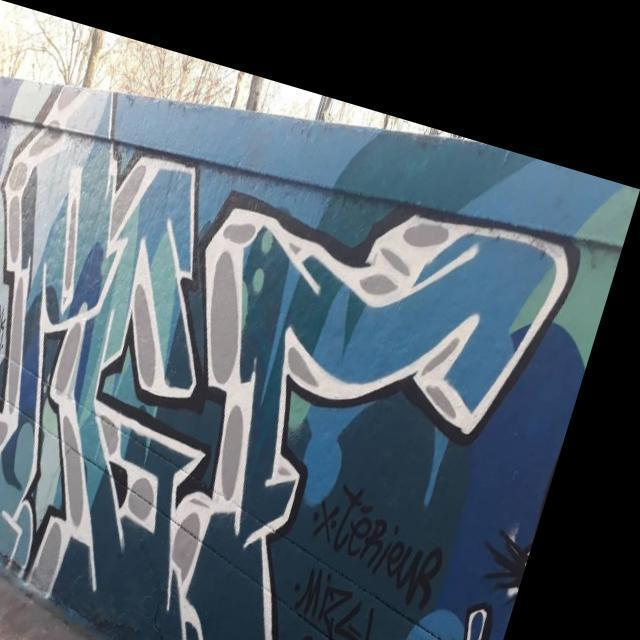-: (0, 77, 591, 640), (316, 442, 480, 580), (312, 526, 426, 636), (0, 226, 44, 507), (316, 605, 390, 640)
